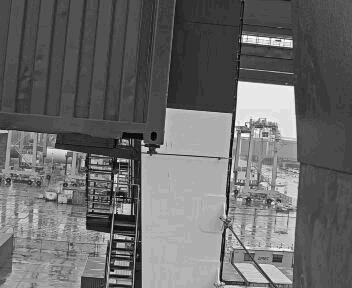twist_lock_1: (204, 146, 230, 165)
